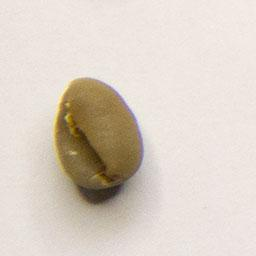peaberry: (50, 75, 146, 195)
